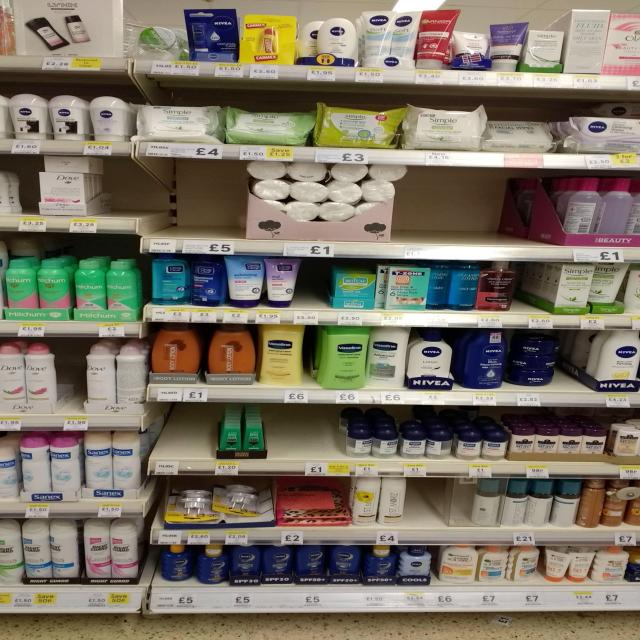empty_space: (123, 168, 237, 225), (421, 177, 523, 239), (269, 413, 335, 453), (169, 410, 211, 454), (58, 349, 86, 412), (414, 484, 441, 528)
